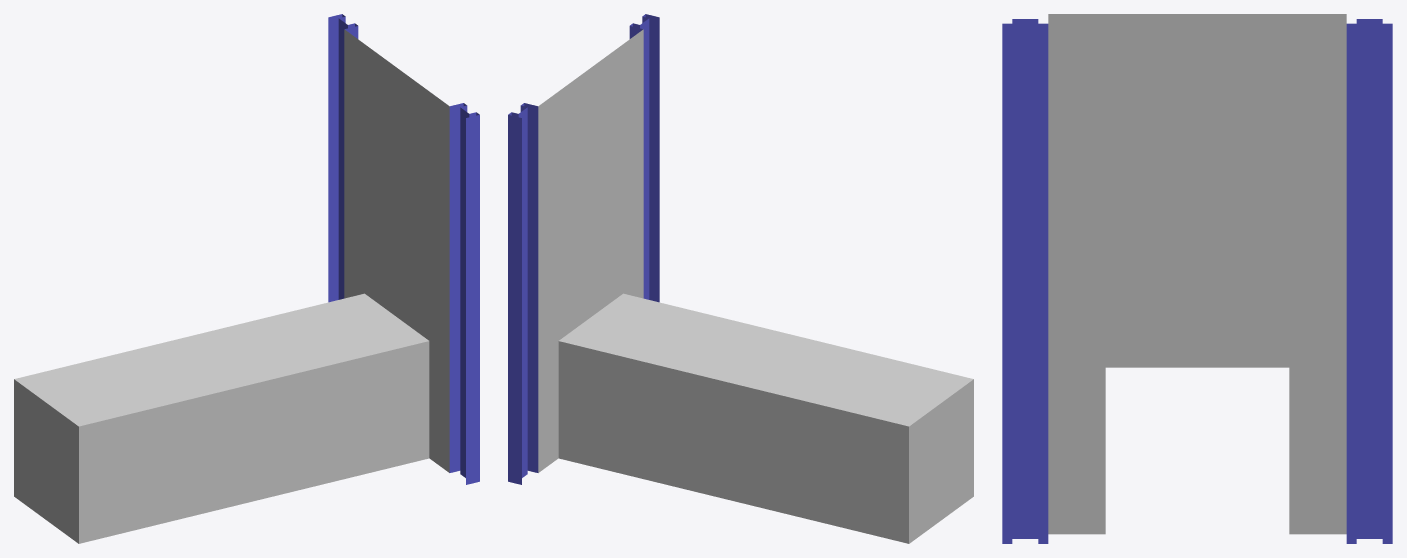
The model's file is Wall_Opening_Floor.fbx.
3 views of the same model, side by side, from view 1: azimuth 30°, elevation 25°; view 2: azimuth 150°, elevation 25°; view 3: azimuth 270°, elevation 25° (orthographic). The views are drawn at different scales.
Visible parts, largest first — view 1: Wall_Opening_Floor; view 2: Wall_Opening_Floor; view 3: Wall_Opening_Floor.
Boxes of the visible parts, x1,y1,x2,y2 form: Wall_Opening_Floor: [14, 14, 479, 543]; Wall_Opening_Floor: [508, 14, 973, 543]; Wall_Opening_Floor: [1002, 14, 1392, 543].
Size of the model in its own units: 520 by 500 by 340.
